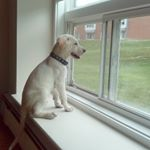puppy: (4, 31, 91, 148)
